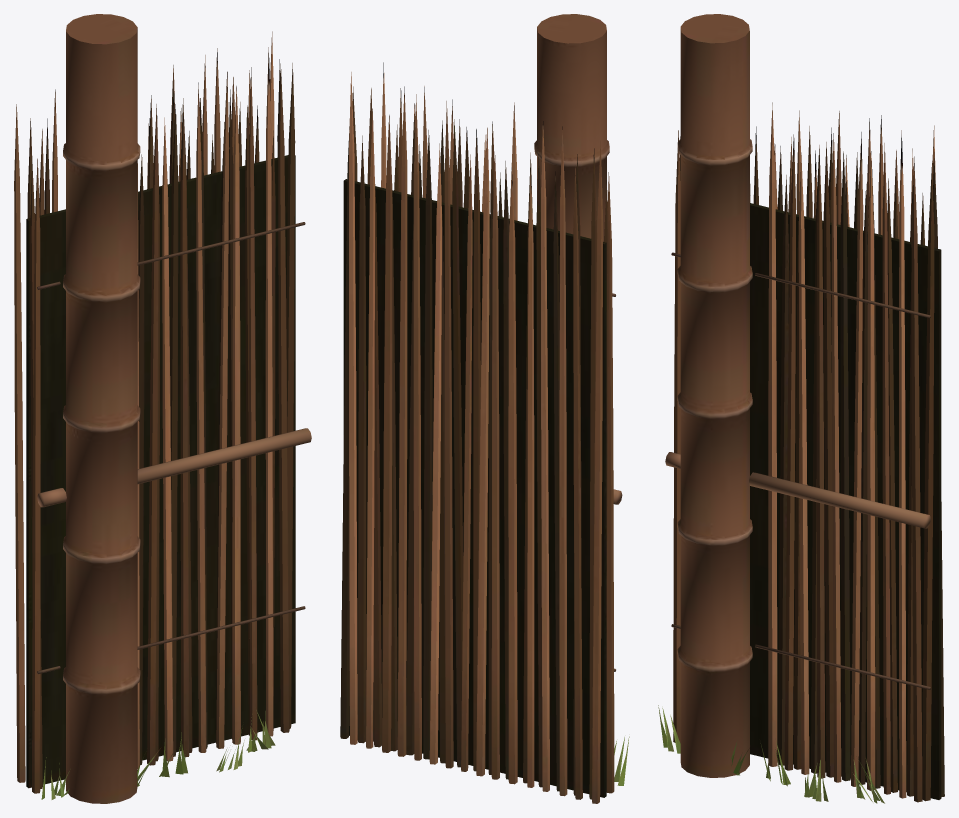
The model's file is fence_reed_end_w_hd.glb.
3 views of the same model, side by side, from view 1: azimuth 30°, elevation 25°; view 2: azimuth 150°, elevation 25°; view 3: azimuth 330°, elevation 25° (orthographic). The views are drawn at different scales.
Parts seen in each view (by area): view 1: fence_reed_end_w; view 2: fence_reed_end_w; view 3: fence_reed_end_w.
Boxes of the visible parts, box(x1,y1,x2,y2) form: fence_reed_end_w: box(14, 14, 311, 803); fence_reed_end_w: box(340, 14, 629, 803); fence_reed_end_w: box(658, 14, 944, 803).
Size of the model in its own units: 0.6522 by 1.74 by 0.2081.
1 material, 1 textured.
